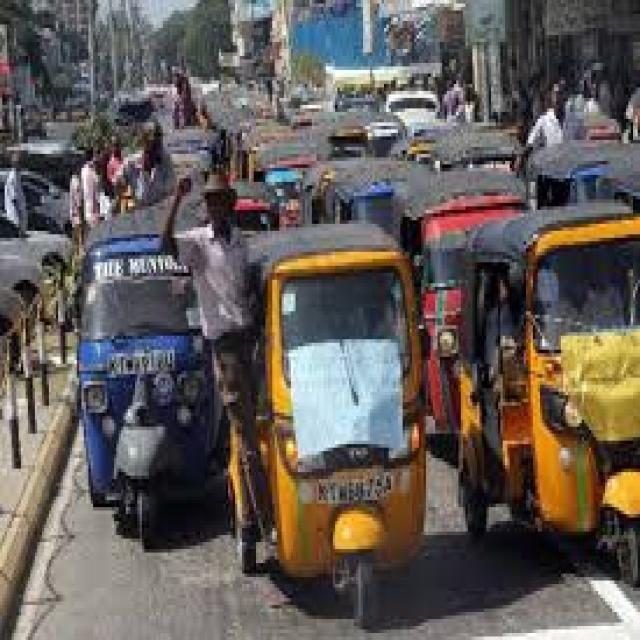tuktuk: (212, 175, 454, 640), (53, 176, 236, 553)
